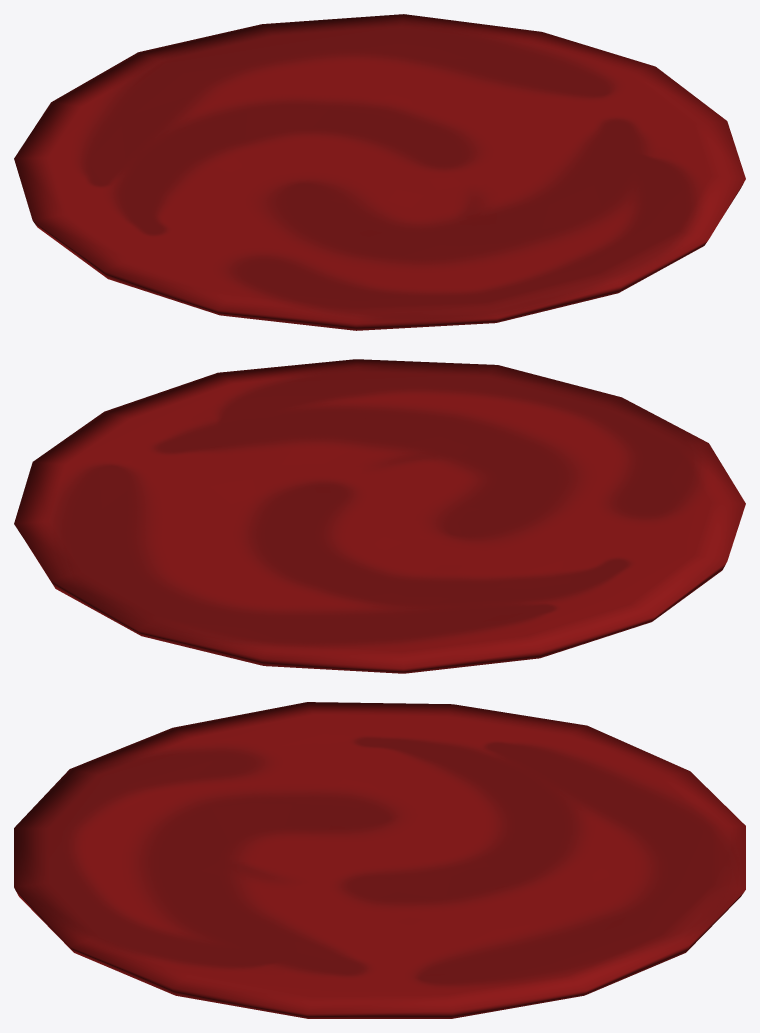
The model's file is tomate_pizza.fbx.
3 views of the same model, one above another, from view 1: azimuth 30°, elevation 25°; view 2: azimuth 150°, elevation 25°; view 3: azimuth 270°, elevation 25° (orthographic).
Visible parts, largest first — view 1: tomate; view 2: tomate; view 3: tomate.
Boxes of the visible parts, bbox=[...] form: tomate: bbox=[14, 14, 745, 330]; tomate: bbox=[14, 359, 745, 673]; tomate: bbox=[14, 702, 745, 1018].
Size of the model in its own units: 2365 by 41.49 by 2365.
